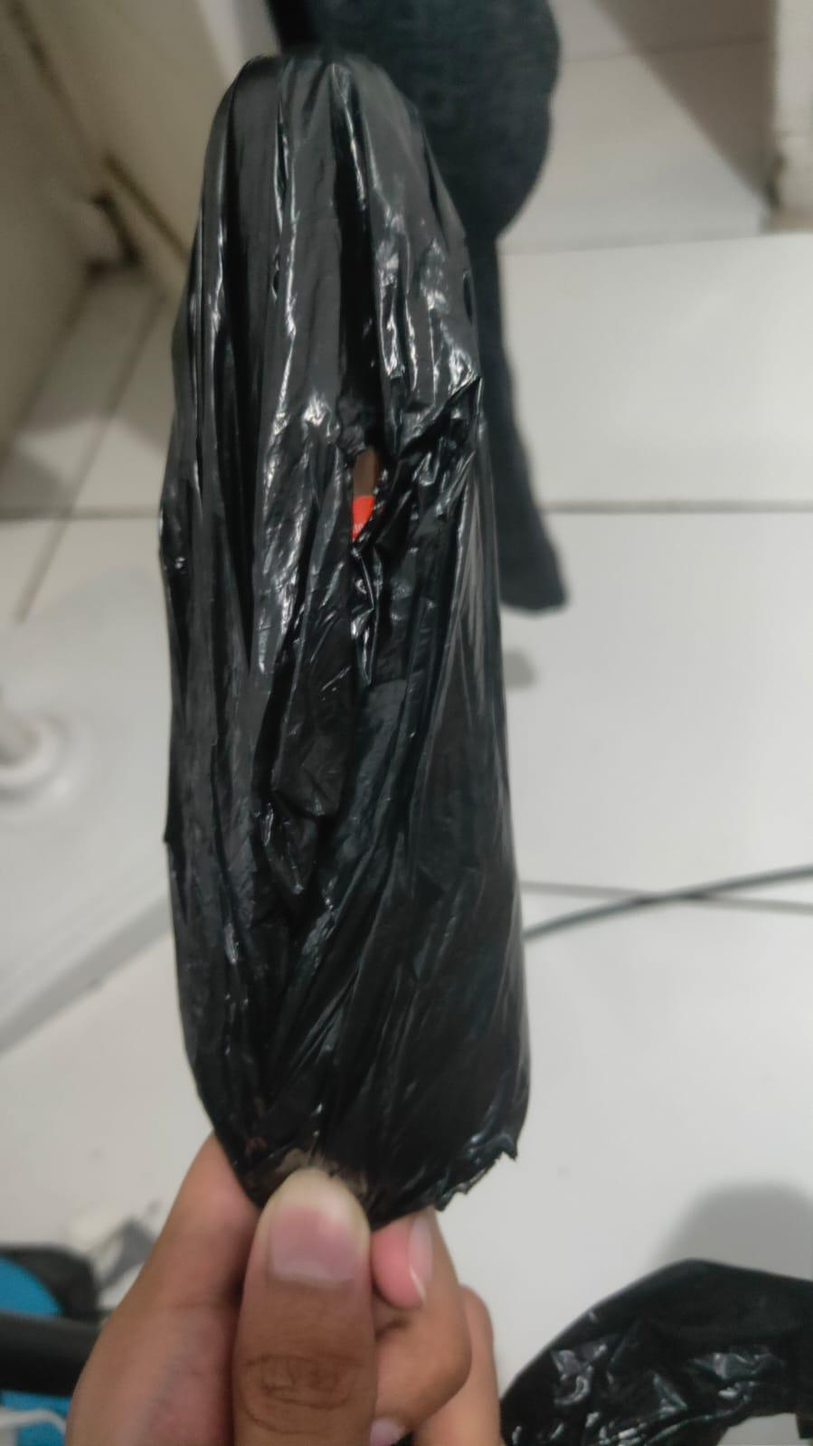damaged package: (323, 388, 415, 556)
undamaged: (127, 21, 534, 1232)
